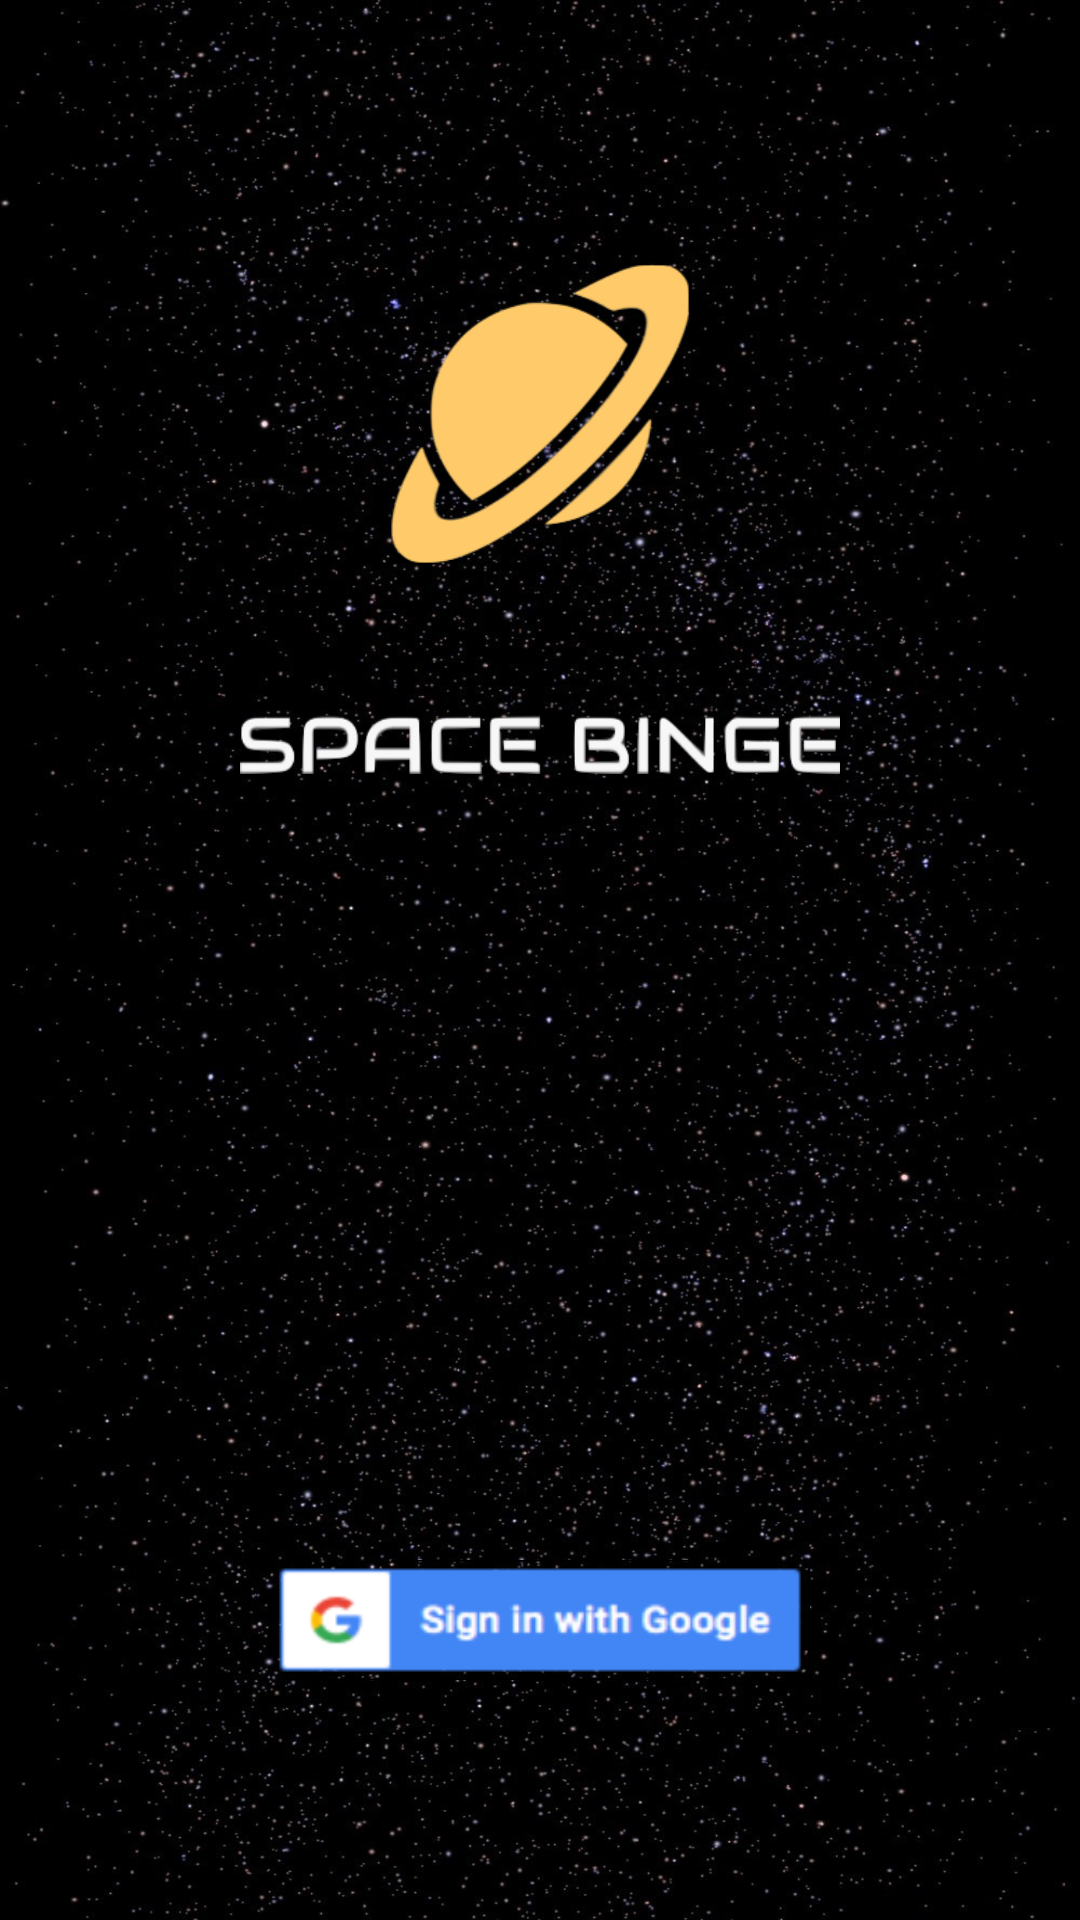

Where to tap for icons on this 1080 x 1920 app screen, as (x,y):
spacebinge full: (540,414)
